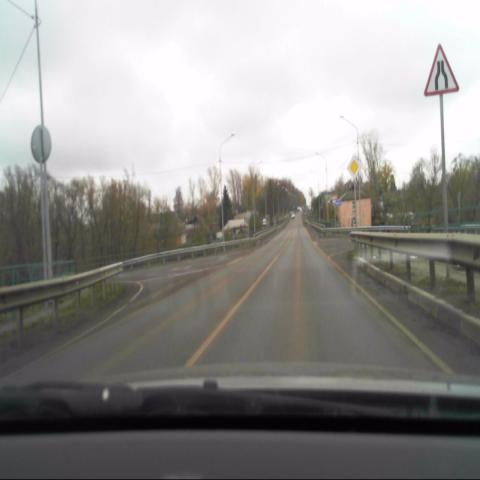1_20: (421, 41, 458, 98)
